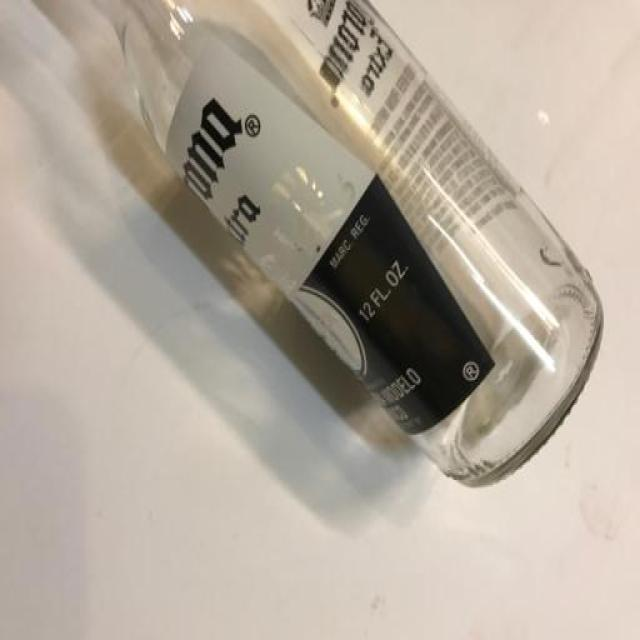glass: (90, 0, 604, 487)
